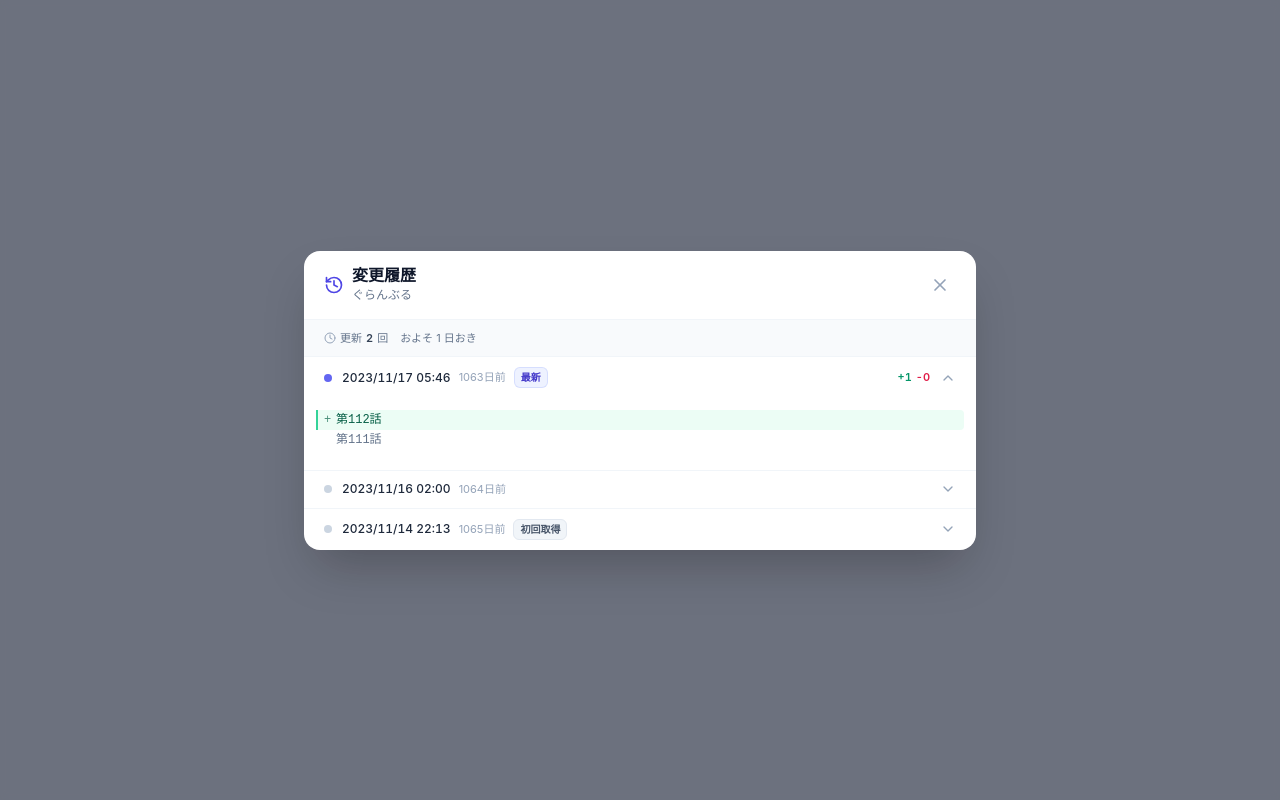
Test case: HistoryModal › loads the diff of a change only when that row is opened
Expected: the text "第112話" is shown, [336,413,382,427]
Click the button "2023/11/16 02:00 1064日前" at (396, 489), box [304,471,976,508]
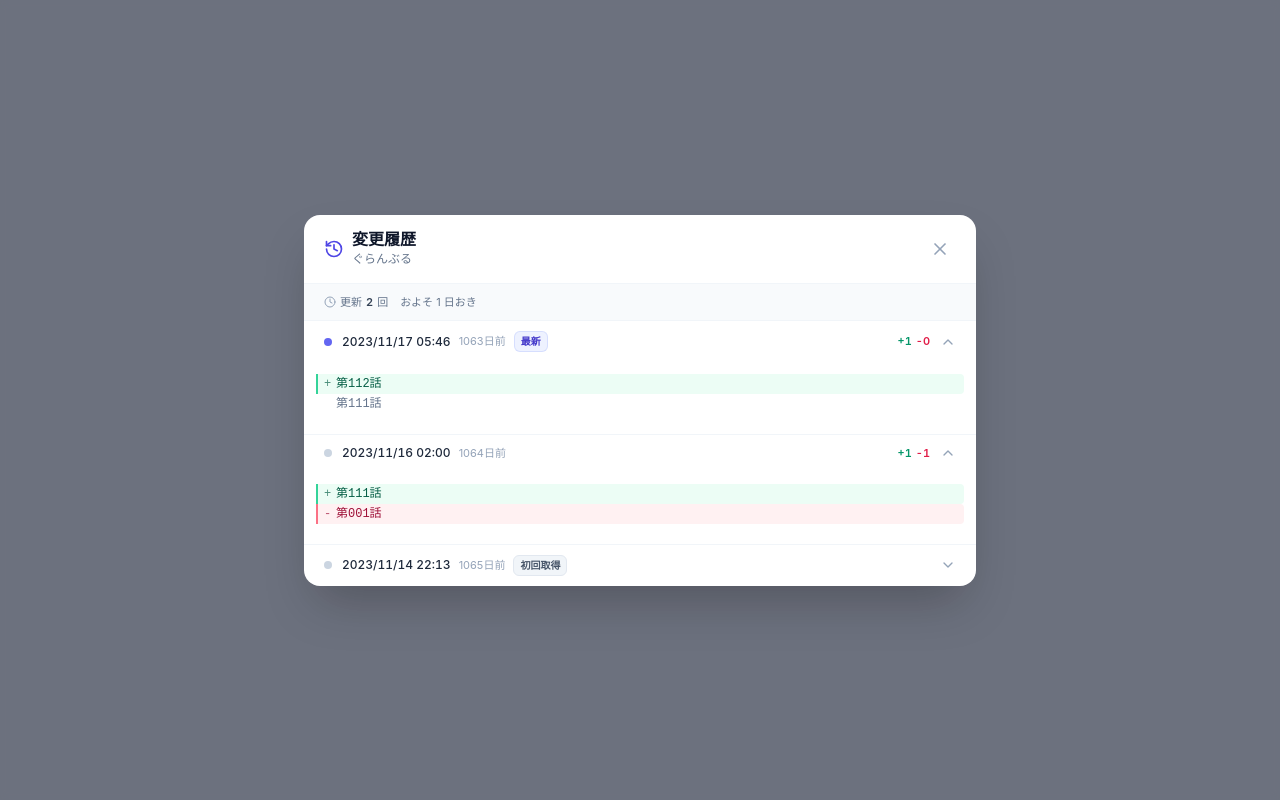
Now the text "第001話" is shown, box [336,506,382,520]
Now the 2nd text "+1" is shown, box [898,445,912,462]
Now the text "-1" is shown, box [916,445,930,462]
